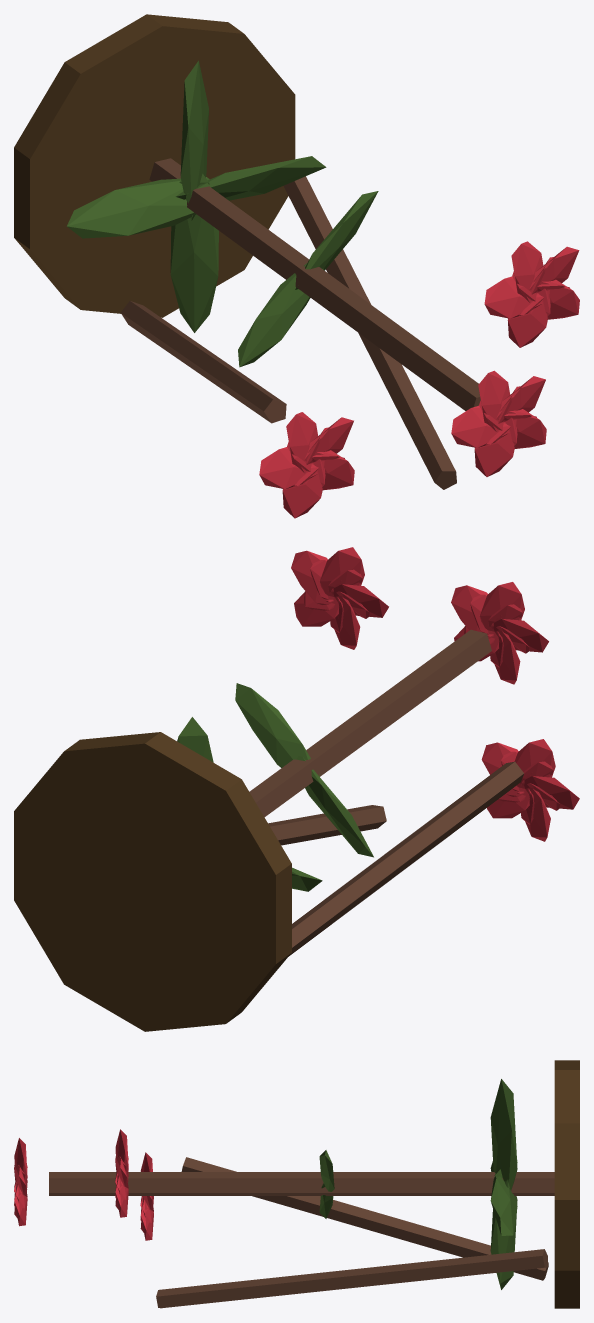
The model's file is 4_mature.obj.
3 views of the same model, one above another, from view 1: azimuth 30°, elevation 25°; view 2: azimuth 150°, elevation 25°; view 3: azimuth 270°, elevation 25° (orthographic). The views are drawn at different scales.
Visible parts, largest first — view 1: rose_4_mature; view 2: rose_4_mature; view 3: rose_4_mature.
Part boxes in pixels (<box>): rose_4_mature: <box>14,14,579,518</box>; rose_4_mature: <box>14,547,579,1031</box>; rose_4_mature: <box>14,1060,579,1308</box>.
Bounding box in the file's own units: 0.2189 × 0.2 × 0.4476.
